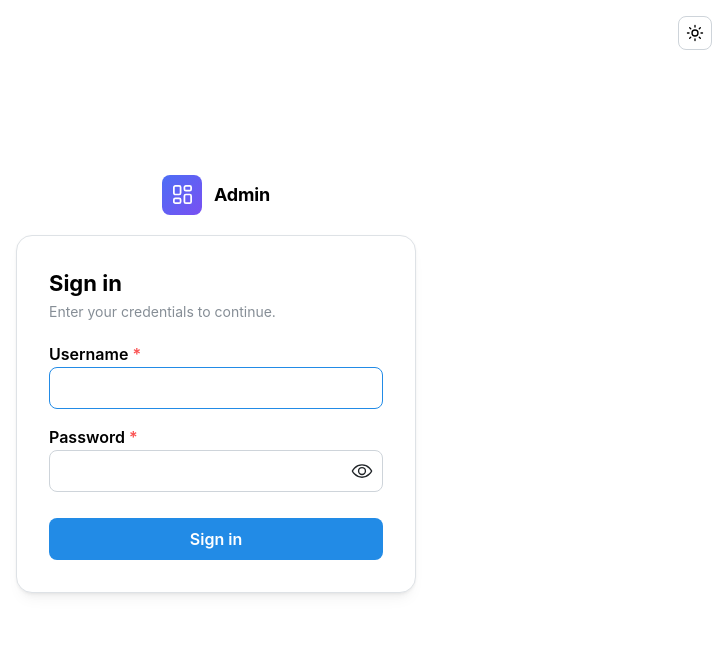
Test: the sign-in failure path › reports a rejection that is not an Error at all
This screenshot has width=728, height=665.
Type "root" into the field labelled "Username *" at (216, 388), box [49,367,383,409]
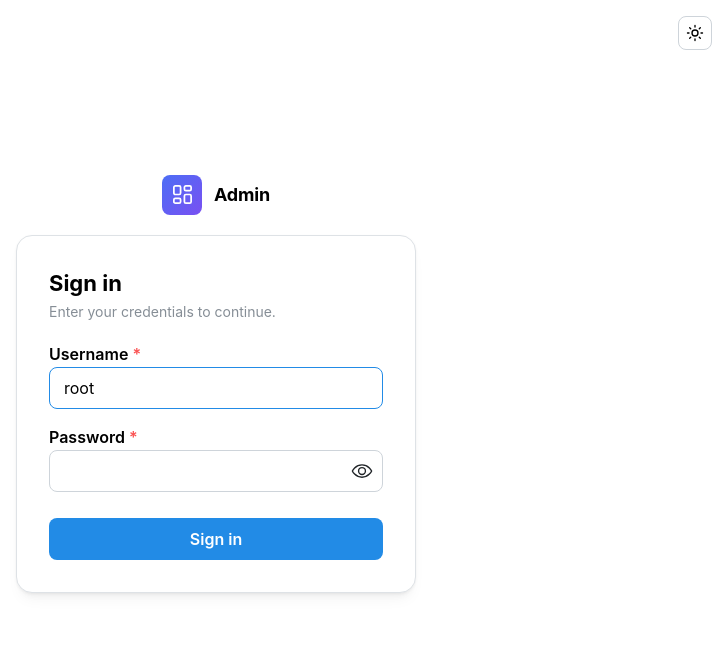
Type "hunter2" into the password field labelled "Password *" at (216, 471), box [50,451,382,491]
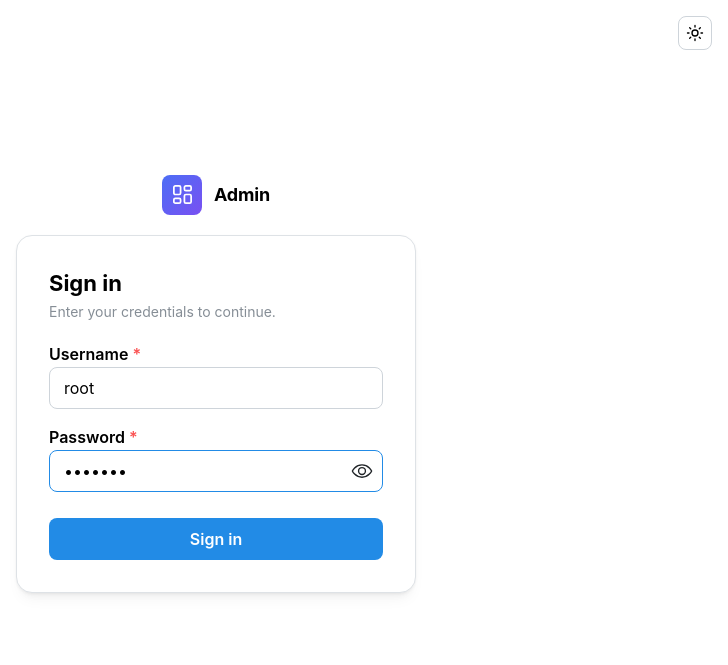
Click the button "Sign in" at (216, 539), box [49,518,383,560]
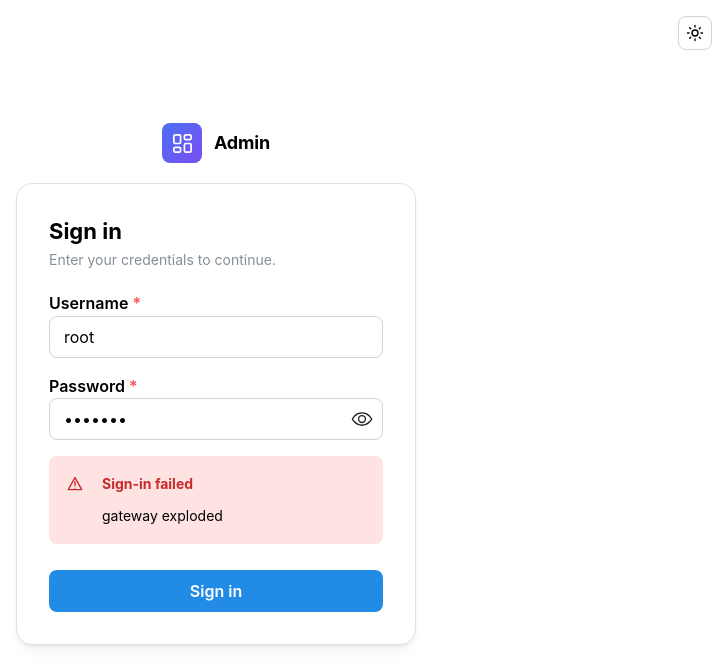
Now the text "gateway exploded" is shown, box [102,507,223,524]
